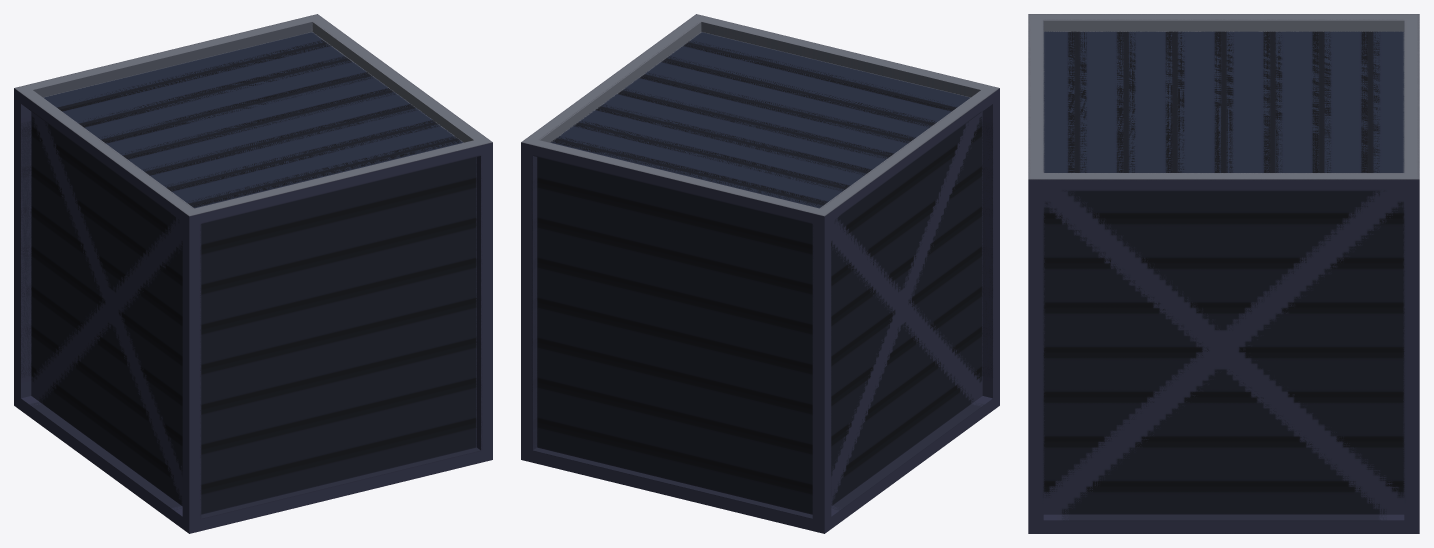
Rendered from crate.fbx.
The picture shows the model from 3 angles, left to right: view 1: azimuth 30°, elevation 25°; view 2: azimuth 150°, elevation 25°; view 3: azimuth 270°, elevation 25°; orthographic projection. The views are drawn at different scales.
Parts seen in each view (by area): view 1: Cube; view 2: Cube; view 3: Cube.
Part boxes in pixels (left/top/right/bottom): Cube: left=14, top=14, right=492, bottom=533; Cube: left=521, top=14, right=999, bottom=533; Cube: left=1028, top=14, right=1419, bottom=533.
Bounding box in the file's own units: 200 × 200 × 200.
1 material, 1 textured.
